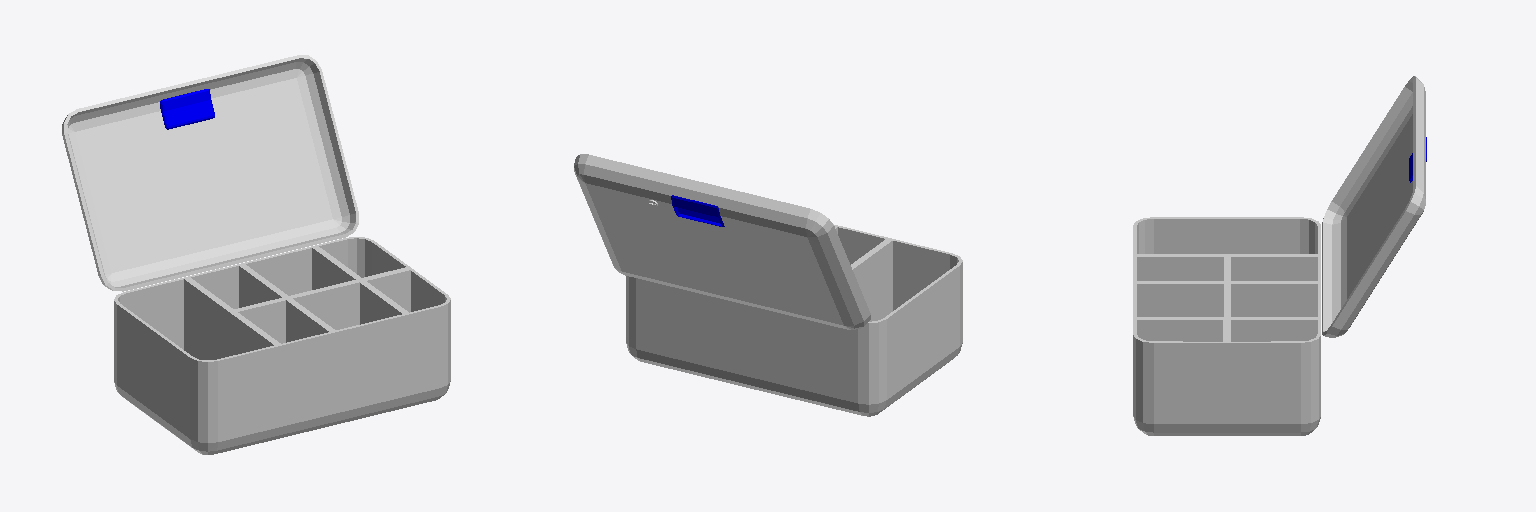
The model's file is botiquin.obj.
3 views of the same model, side by side, from view 1: azimuth 30°, elevation 25°; view 2: azimuth 150°, elevation 25°; view 3: azimuth 270°, elevation 25° (orthographic).
Parts seen in each view (by area): view 1: ChamferBox001, tapa, ChamferBox002; view 2: ChamferBox001, tapa, ChamferBox002; view 3: ChamferBox001, tapa.
Boxes of the visible parts, x1=… form: ChamferBox001: x1=114, y1=237, x2=450, y2=454; tapa: x1=62, y1=55, x2=358, y2=291; ChamferBox002: x1=160, y1=89, x2=214, y2=129; ChamferBox001: x1=626, y1=224, x2=962, y2=416; tapa: x1=574, y1=154, x2=870, y2=329; ChamferBox002: x1=671, y1=195, x2=724, y2=226; ChamferBox001: x1=1133, y1=217, x2=1320, y2=435; tapa: x1=1322, y1=76, x2=1425, y2=337.
Bounding box in the file's own units: 0.8824 × 0.8114 × 0.8708.